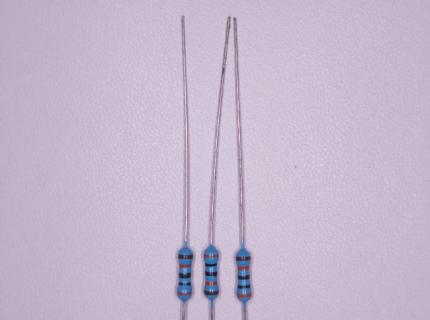Black band: (179, 272, 191, 279), (205, 271, 218, 277), (237, 274, 250, 280), (205, 262, 218, 267), (237, 285, 251, 289), (178, 282, 191, 286)
Brown band: (178, 254, 193, 260), (204, 290, 219, 296), (236, 256, 251, 261)
Orange band: (177, 291, 192, 296), (237, 293, 252, 298), (179, 264, 192, 269), (237, 266, 250, 271), (204, 254, 219, 258), (205, 281, 218, 285)
